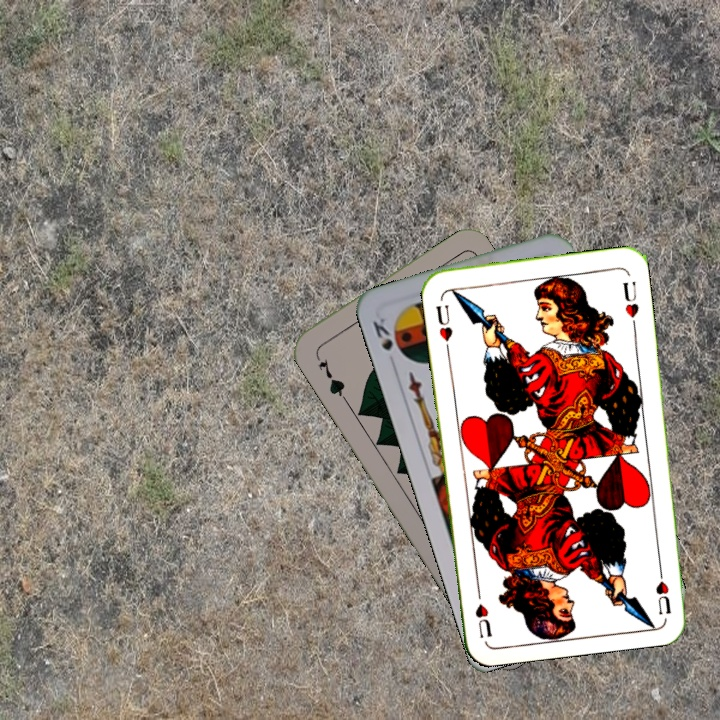G7: (311, 350, 349, 403)
HU: (651, 559, 674, 618), (432, 301, 455, 352)
SK: (368, 313, 406, 359)
